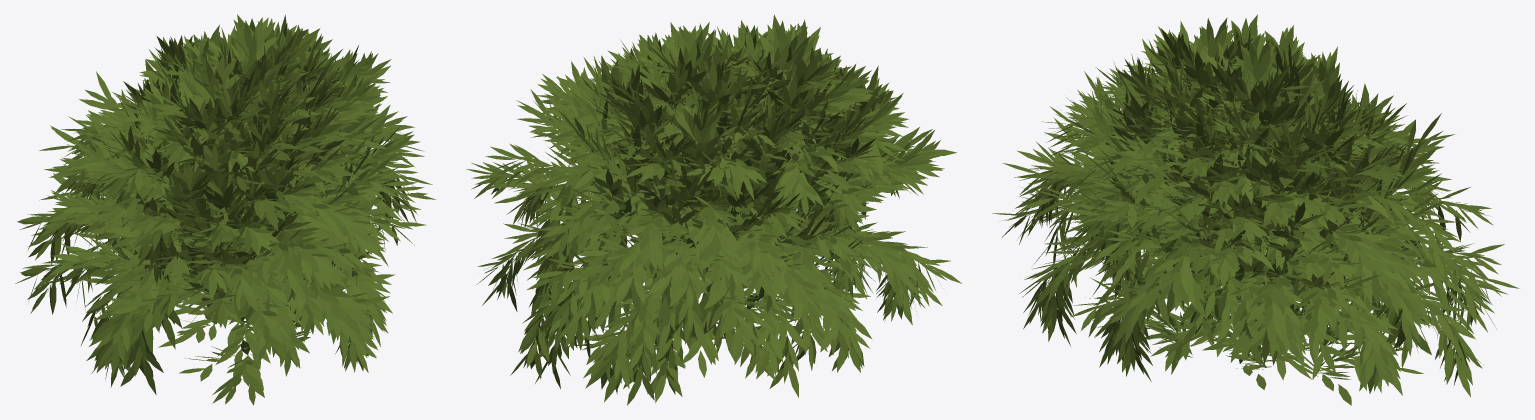
File: bush1.fbx
3 renders of one model, left to right at view 1: azimuth 30°, elevation 25°; view 2: azimuth 150°, elevation 25°; view 3: azimuth 270°, elevation 25°, orthographic. The views are drawn at different scales.
Visible parts, largest first — view 1: leaves.002, leaves.001; view 2: leaves.001, leaves.002; view 3: leaves.001, leaves.002.
Part boxes in pixels (<box>): leaves.002: <box>15,45,435,405</box>; leaves.001: <box>17,14,432,375</box>; leaves.001: <box>466,22,894,405</box>; leaves.002: <box>550,14,961,397</box>; leaves.001: <box>1045,25,1519,405</box>; leaves.002: <box>992,14,1449,392</box>.
Size of the model in its own units: 472 by 347 by 512.
